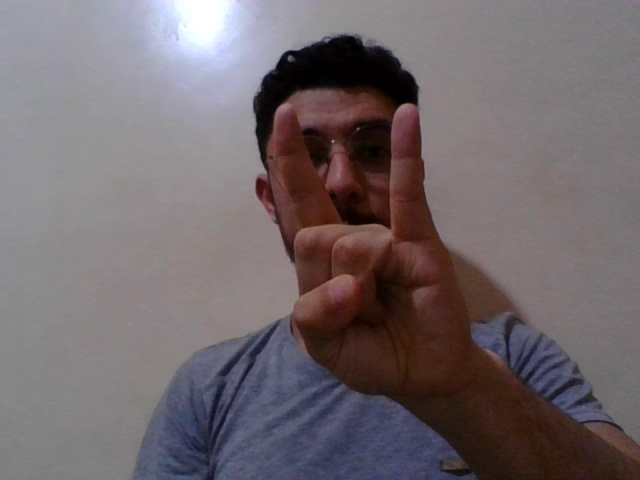I love You: (246, 96, 508, 423)
